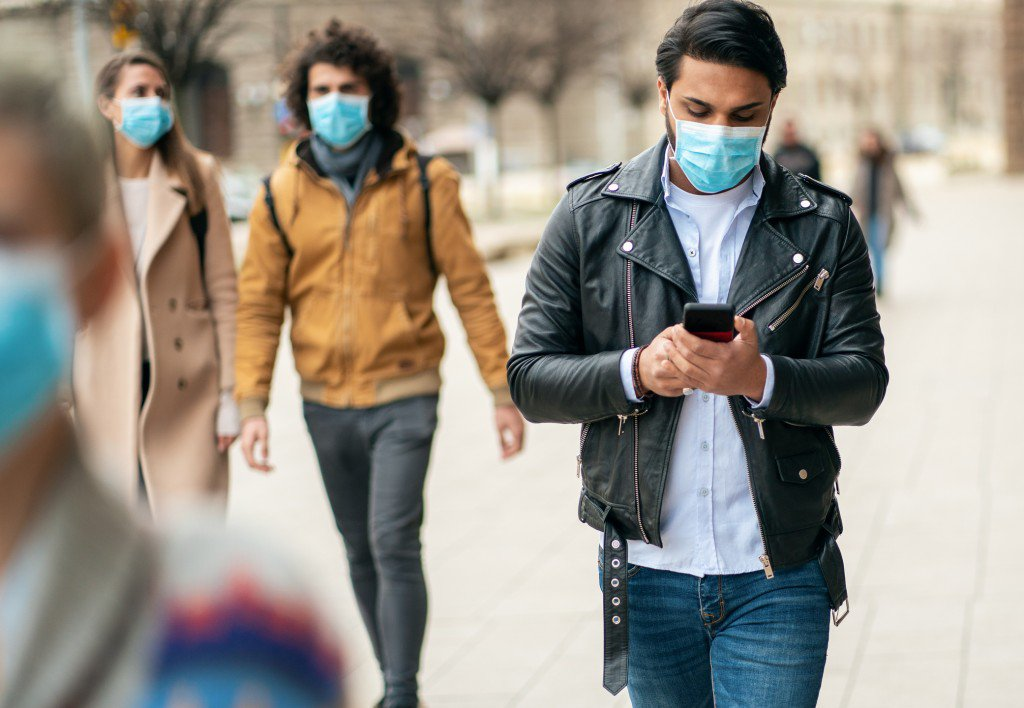mask: (637, 4, 791, 196), (276, 21, 411, 166), (78, 44, 192, 156)
